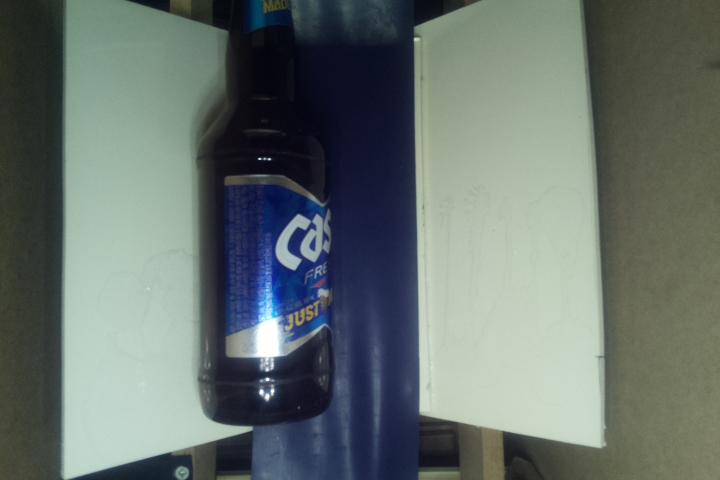makju: (193, 1, 338, 426)
